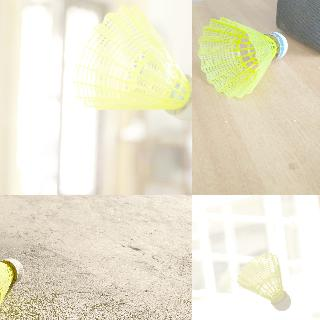shuttlecock: (73, 5, 191, 122), (198, 17, 288, 97), (238, 253, 290, 311), (0, 247, 24, 319)
